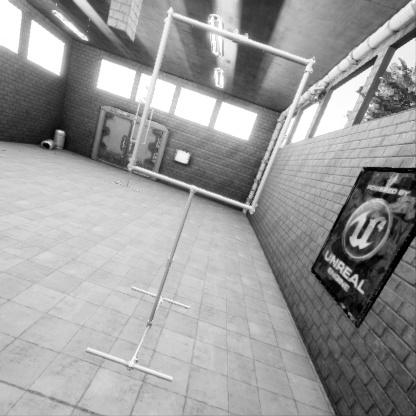gate: (132, 207, 333, 416), (130, 273, 154, 319)
